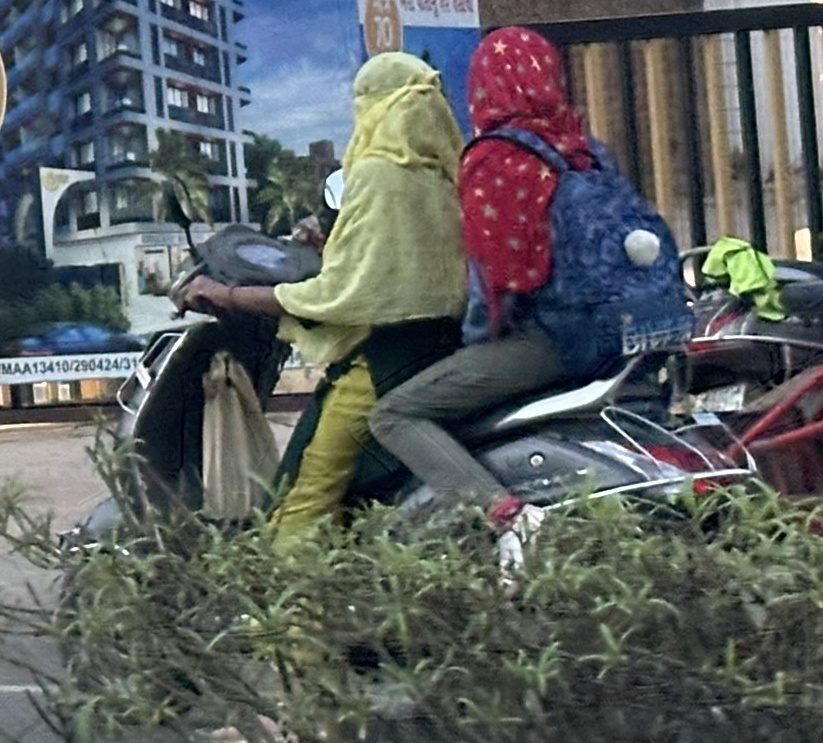BikeWithRider: (66, 19, 764, 536)
NoHelmet: (466, 23, 567, 130), (345, 50, 443, 155)
